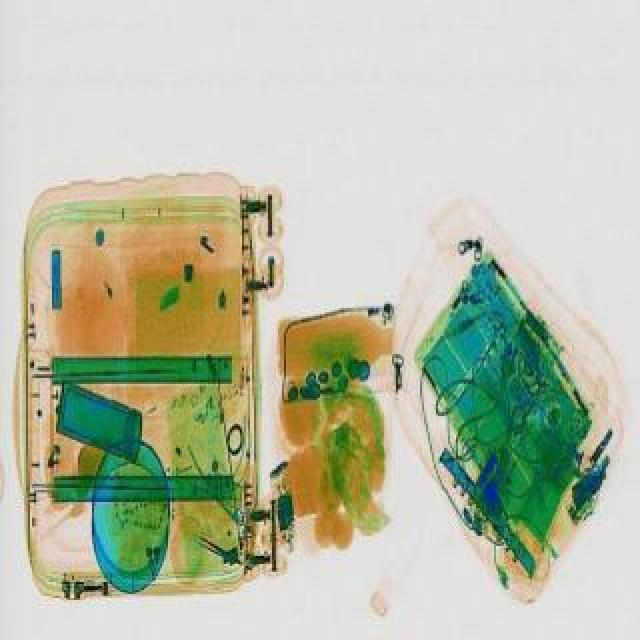knife: (192, 526, 248, 568)
